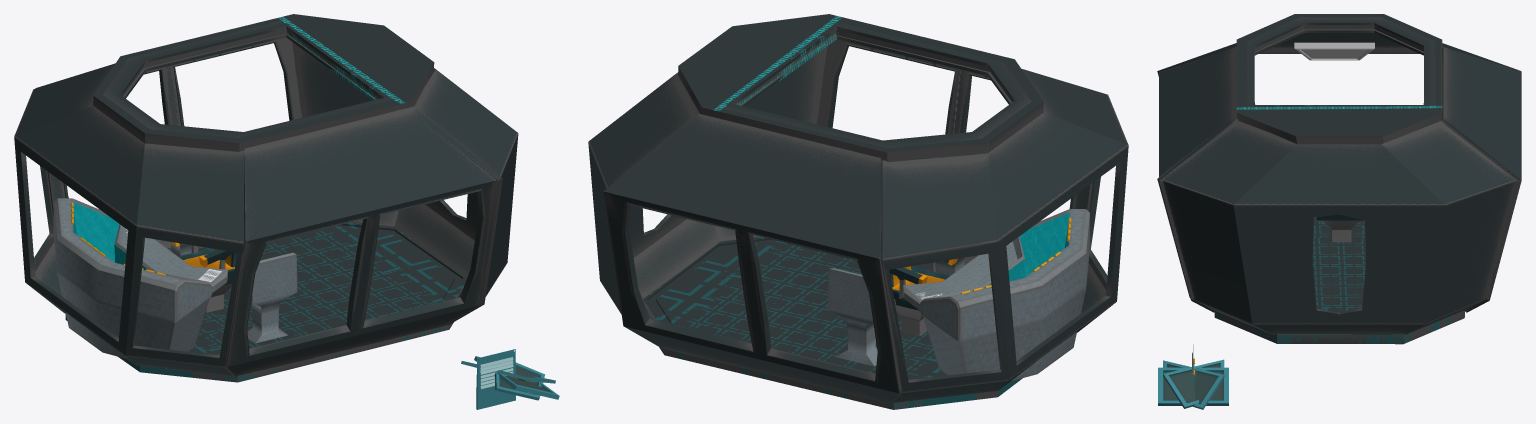
Rendered from EXP_4_.fbx.
3 views of the same model, side by side, from view 1: azimuth 30°, elevation 25°; view 2: azimuth 150°, elevation 25°; view 3: azimuth 270°, elevation 25° (orthographic). The views are drawn at different scales.
Visible parts, largest first — view 1: Cage1, Console2, Left_Console_Panel, Chair2, panel, Hatch, Left_Console_Door; view 2: Cage1, Console2, Right_Console_Panel, Chair2; view 3: Cage1, pCube6, Left_Console_Door, Chair2.
Boxes of the visible parts, x1=… form: Cage1: x1=14, y1=14, x2=559, y2=399; Console2: x1=53, y1=198, x2=227, y2=368; Left_Console_Panel: x1=247, y1=252, x2=297, y2=343; Chair2: x1=171, y1=242, x2=237, y2=312; panel: x1=477, y1=349, x2=515, y2=392; Hatch: x1=476, y1=366, x2=515, y2=409; Left_Console_Door: x1=494, y1=362, x2=544, y2=400; Cage1: x1=588, y1=14, x2=1128, y2=409; Console2: x1=903, y1=209, x2=1089, y2=381; Right_Console_Panel: x1=827, y1=268, x2=895, y2=366; Chair2: x1=889, y1=258, x2=957, y2=335; Cage1: x1=1157, y1=14, x2=1521, y2=408; pCube6: x1=1294, y1=42, x2=1374, y2=60; Left_Console_Door: x1=1163, y1=360, x2=1224, y2=409; Chair2: x1=1317, y1=214, x2=1364, y2=242.
Bounding box in the file's own units: 4912 × 3592 × 4574.
